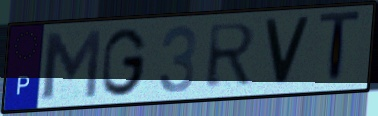3: (157, 22, 199, 94)
G: (99, 25, 150, 98)
M: (40, 27, 104, 102)
R: (204, 21, 259, 92)
T: (317, 8, 363, 89)
V: (261, 16, 314, 89)
